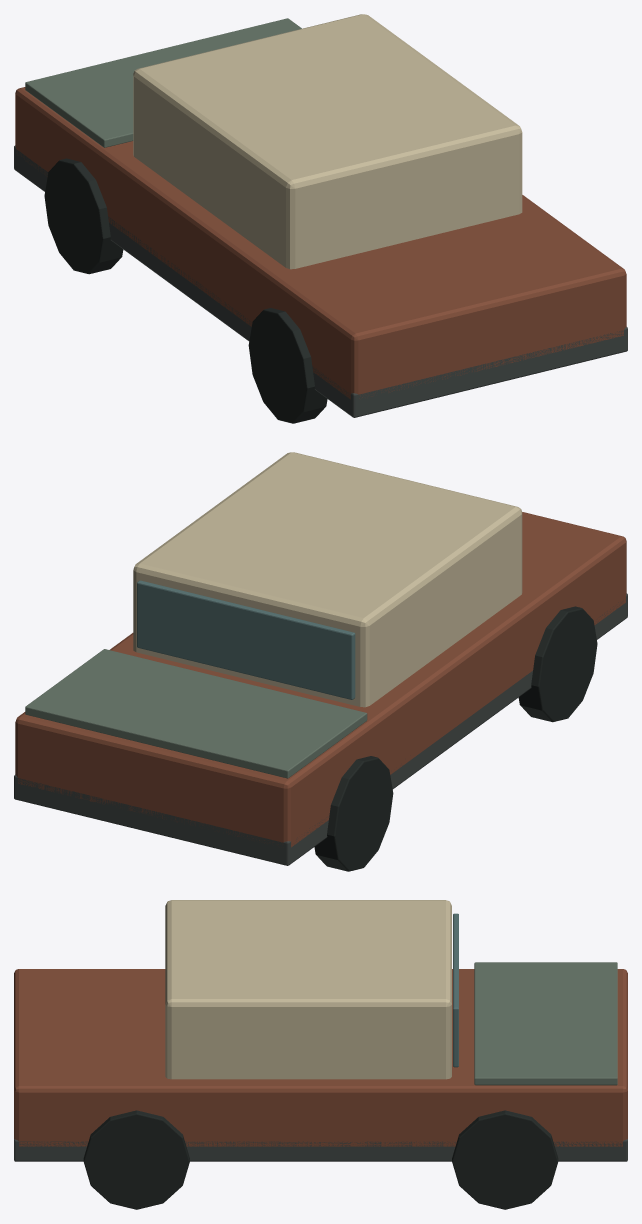
Rendered from env_derelict_car.gltf.
3 views of the same model, one above another, from view 1: azimuth 30°, elevation 25°; view 2: azimuth 150°, elevation 25°; view 3: azimuth 270°, elevation 25° (orthographic). The views are drawn at different scales.
Parts seen in each view (by area): view 1: env_derelict_car__paint_cream, env_derelict_car__rust, env_derelict_car__rubber, env_derelict_car__dark_steel, env_derelict_car__paint_green; view 2: env_derelict_car__paint_cream, env_derelict_car__rust, env_derelict_car__paint_green, env_derelict_car__glass, env_derelict_car__rubber, env_derelict_car__dark_steel; view 3: env_derelict_car__rust, env_derelict_car__paint_cream, env_derelict_car__paint_green, env_derelict_car__rubber, env_derelict_car__dark_steel, env_derelict_car__glass.
Boxes of the visible parts, x1,y1,x2,y2 form: env_derelict_car__paint_cream: (133,14,522,269); env_derelict_car__rust: (15,87,626,399); env_derelict_car__rubber: (44,158,327,423); env_derelict_car__dark_steel: (14,145,627,417); env_derelict_car__paint_green: (25,18,301,147); env_derelict_car__paint_cream: (133,452,522,707); env_derelict_car__rust: (15,512,626,847); env_derelict_car__paint_green: (25,649,367,778); env_derelict_car__glass: (137,580,355,699); env_derelict_car__rubber: (314,606,597,871); env_derelict_car__dark_steel: (14,593,627,865); env_derelict_car__rust: (14,969,627,1146); env_derelict_car__paint_cream: (165,900,451,1079); env_derelict_car__paint_green: (474,962,617,1085); env_derelict_car__rubber: (83,1110,558,1209); env_derelict_car__dark_steel: (14,1139,627,1161); env_derelict_car__glass: (453,913,458,1067).
Bounding box in the file's own units: 7.4 × 5.3 × 15.
